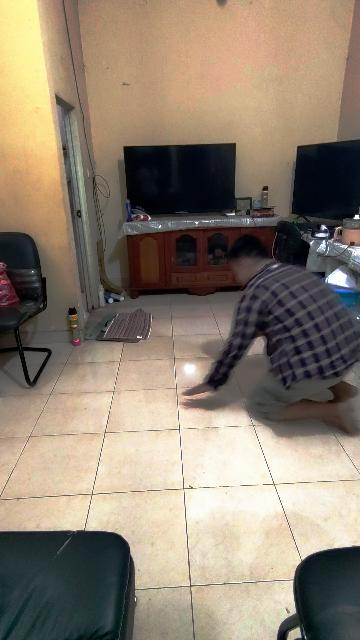jatuh: (194, 242, 360, 434)
